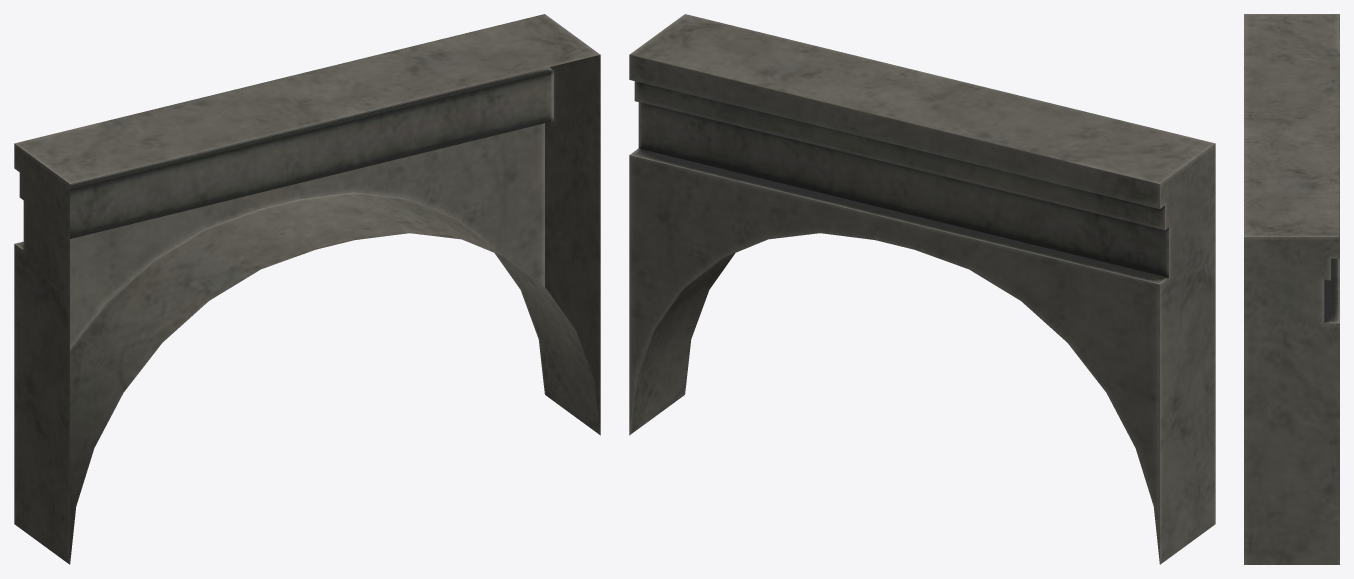
Rendered from SM_Border1.fbx.
3 views of the same model, side by side, from view 1: azimuth 30°, elevation 25°; view 2: azimuth 150°, elevation 25°; view 3: azimuth 270°, elevation 25° (orthographic). The views are drawn at different scales.
Visible parts, largest first — view 1: SM_Border1; view 2: SM_Border1; view 3: SM_Border1.
Part boxes in pixels (x1=…): SM_Border1: x1=14, y1=14, x2=600, y2=564; SM_Border1: x1=629, y1=14, x2=1215, y2=564; SM_Border1: x1=1244, y1=14, x2=1339, y2=564.
Bounding box in the file's own units: 164 × 29.83 × 113.
